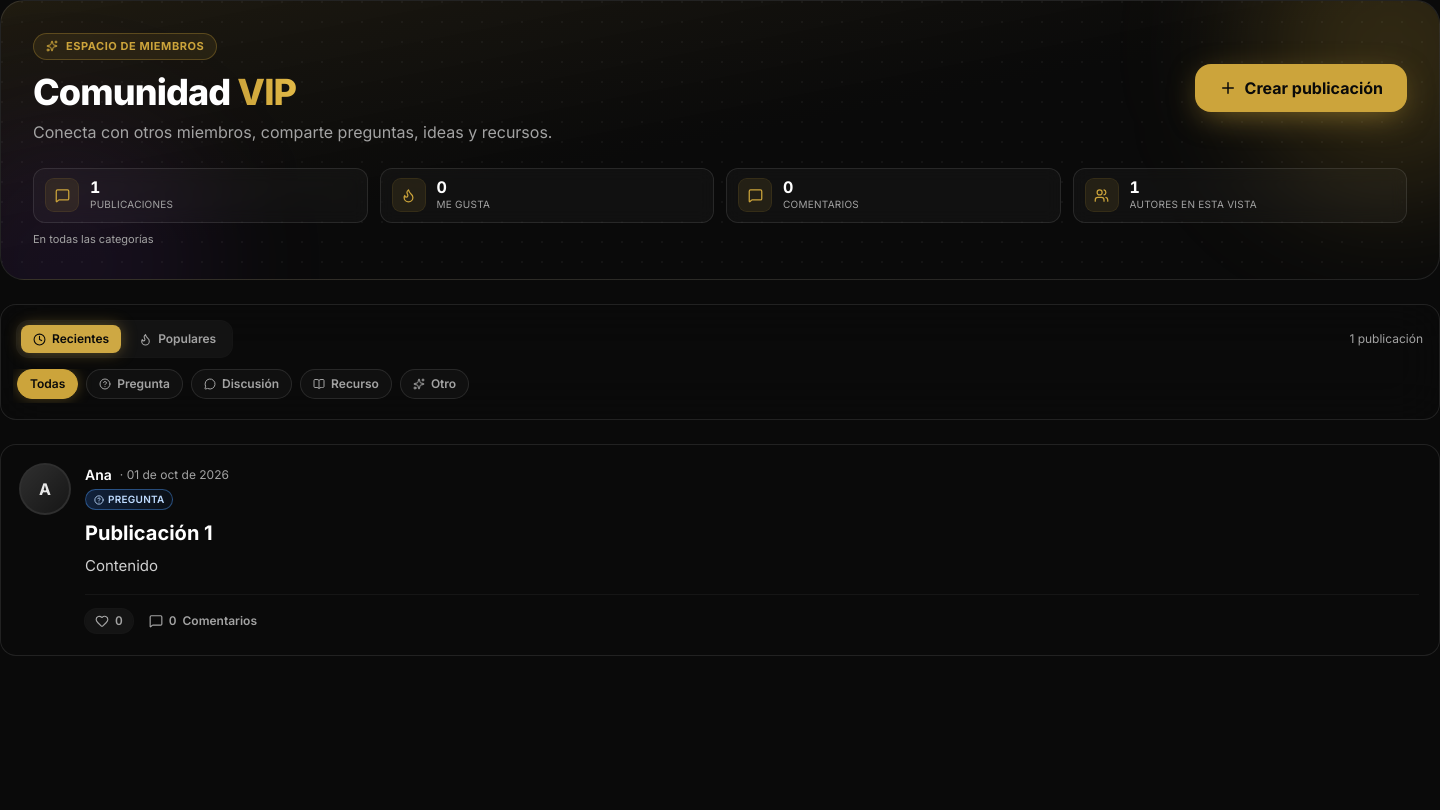
Test: CommunityFeed › una respuesta vieja no pisa la vista del filtro nuevo
Check: the button "Publicación 1" is shown, box [85, 520, 213, 548]
Click the button "Pregunta" at (135, 384), box [86, 369, 183, 399]
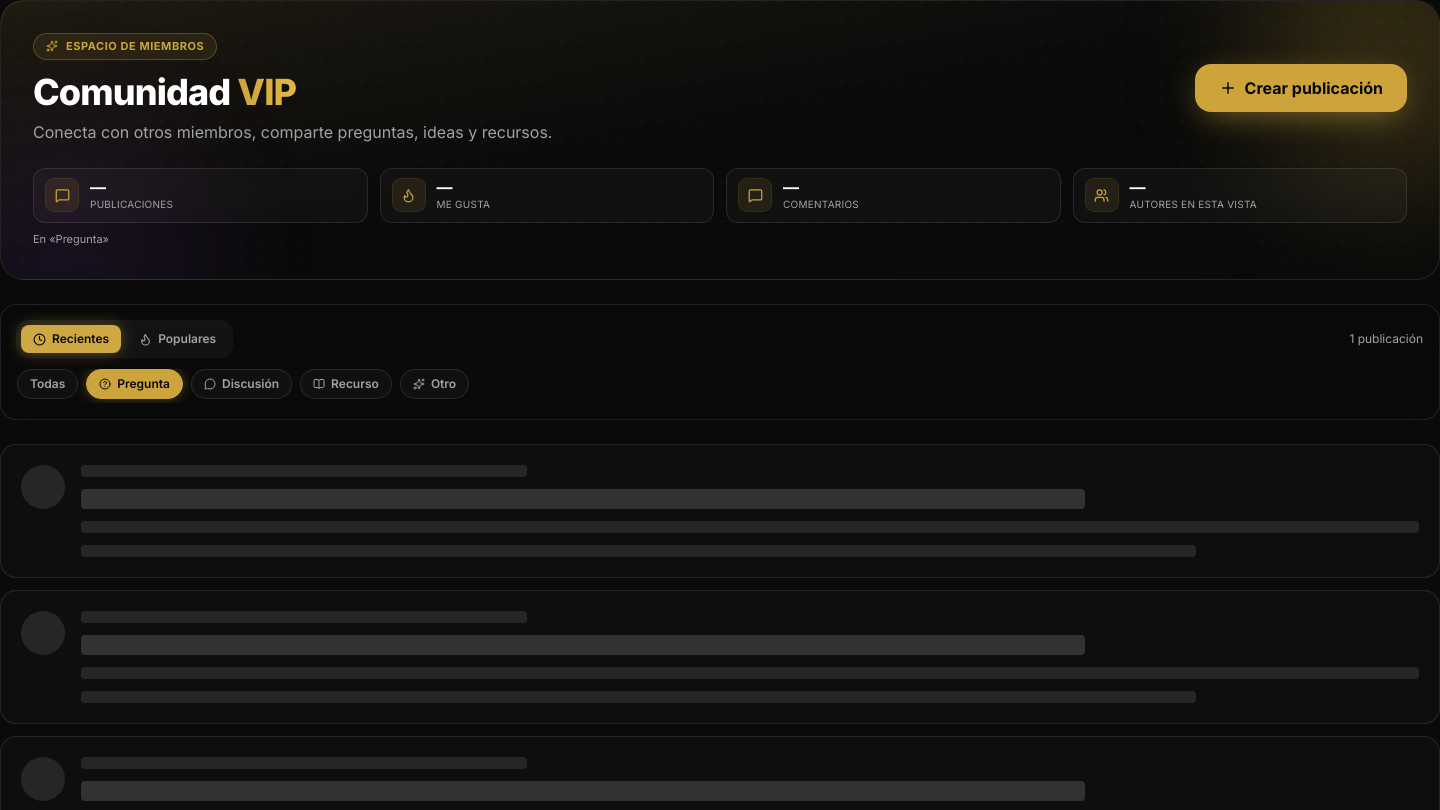
Click the button "Recurso" at (346, 384), box [300, 369, 392, 399]
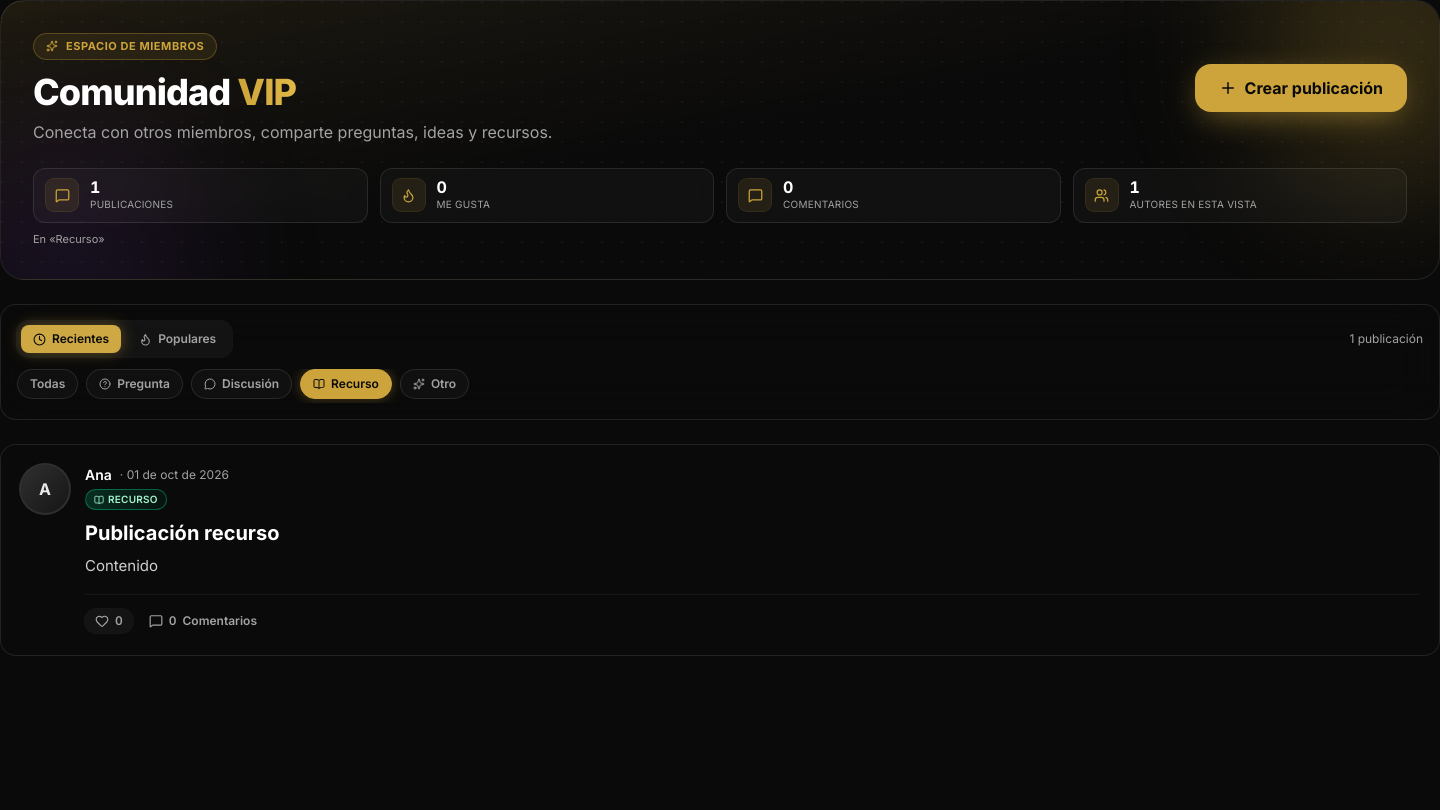
Check: the button "Publicación recurso" is shown, box [85, 520, 280, 548]
